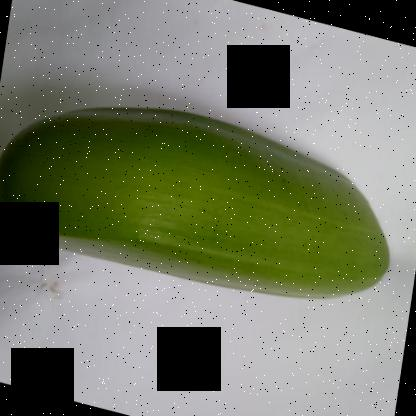freshunripe: (0, 92, 401, 312)
